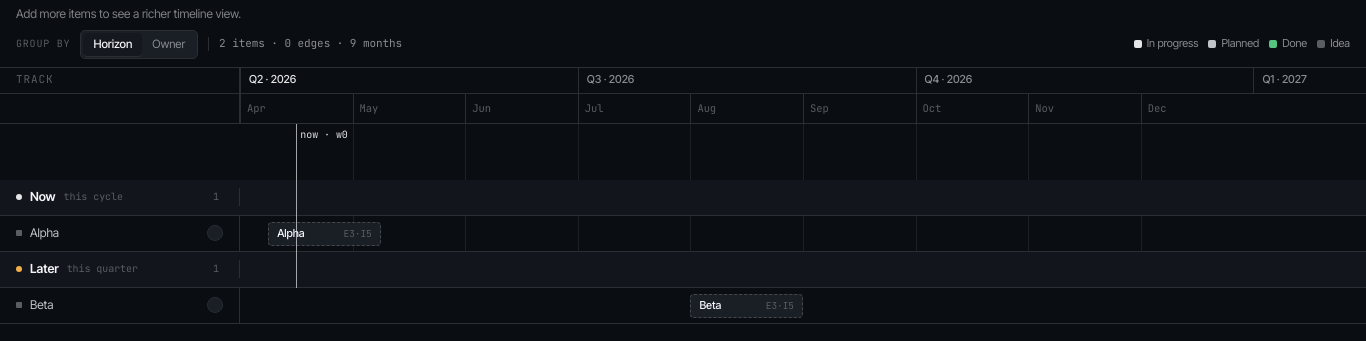
it: GanttTimeline — group by toggle (KAN-31) › switching to 'Owner' renders an Unassigned group when no owners are present
This screenshot has width=1366, height=341.
Click the button "Owner".
click(169, 44)  # box [142,33,195,56]
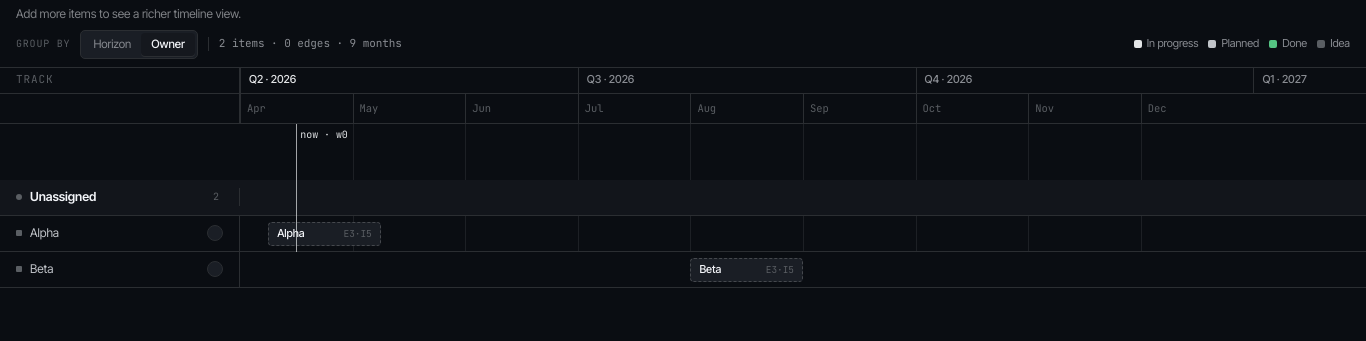
Expected: the number of elements with test id "timeline-group-header" is 1, [0,180,1365,216]
